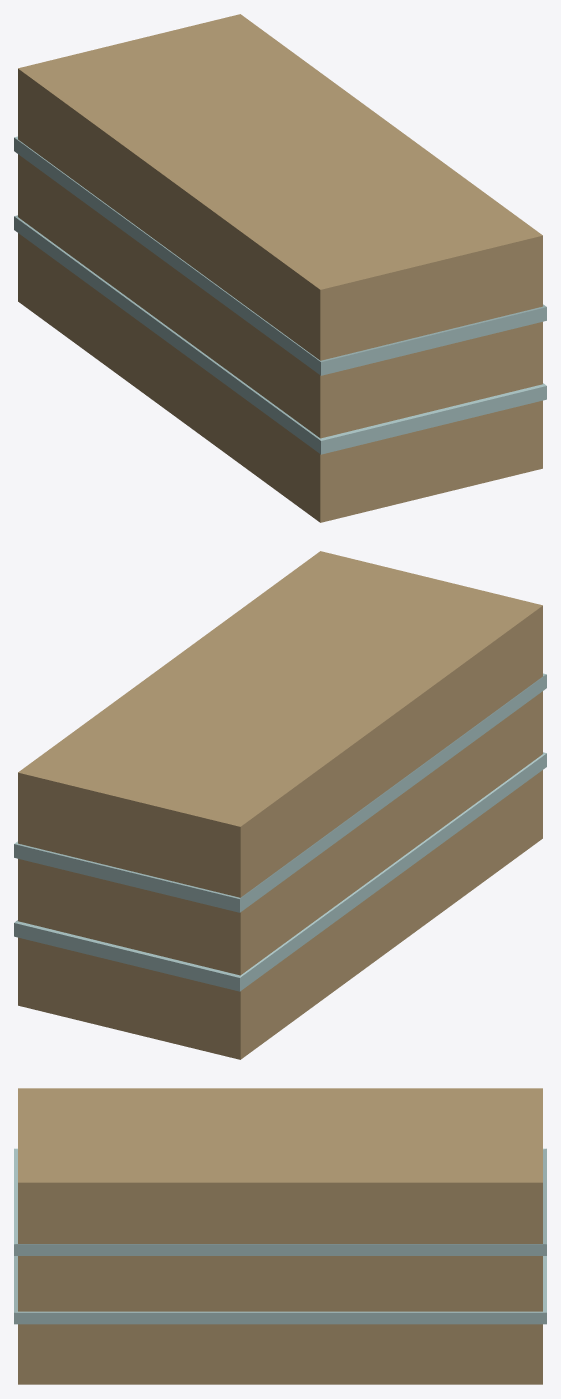
Rendered from BigBox.fbx.
3 renders of one model, top to bottom at view 1: azimuth 30°, elevation 25°; view 2: azimuth 150°, elevation 25°; view 3: azimuth 270°, elevation 25°, orthographic. The views are drawn at different scales.
Visible parts, largest first — view 1: Cube.005; view 2: Cube.005; view 3: Cube.005.
Boxes of the visible parts, x1,y1,x2,y2 form: Cube.005: (14,14,546,522); Cube.005: (14,551,546,1059); Cube.005: (14,1088,546,1384).
Bounding box in the file's own units: 324 × 319 × 762.
